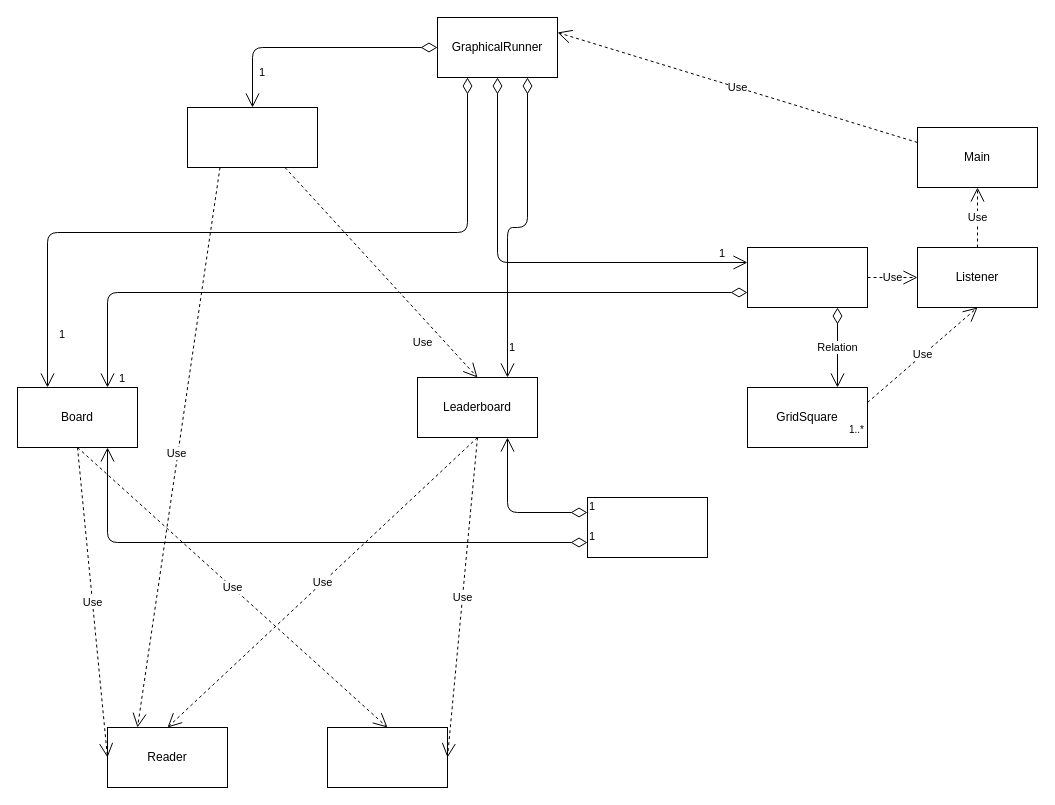
Some shapes in this 1055 by 805 pixel diagram are drawn without their labels. The centre of each missing label's shape, as x and y in pixels:
"GraphicalBoard" belongs at (807,277).
"GraphicalLeaderboard" belongs at (252,137).
"Minesweeper (unused, kept in the project for reference)" belongs at (647,527).
"Writer" belongs at (387,757).
